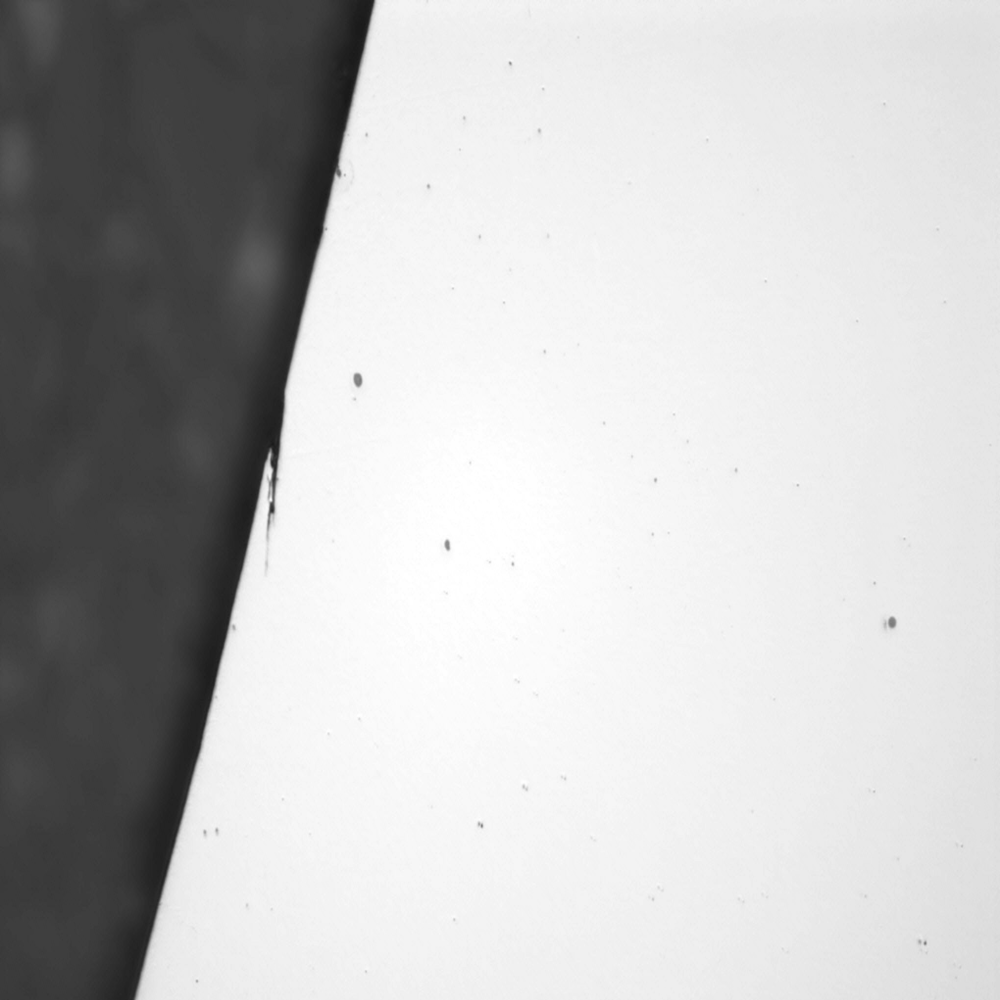crack: (240, 399, 306, 575)
